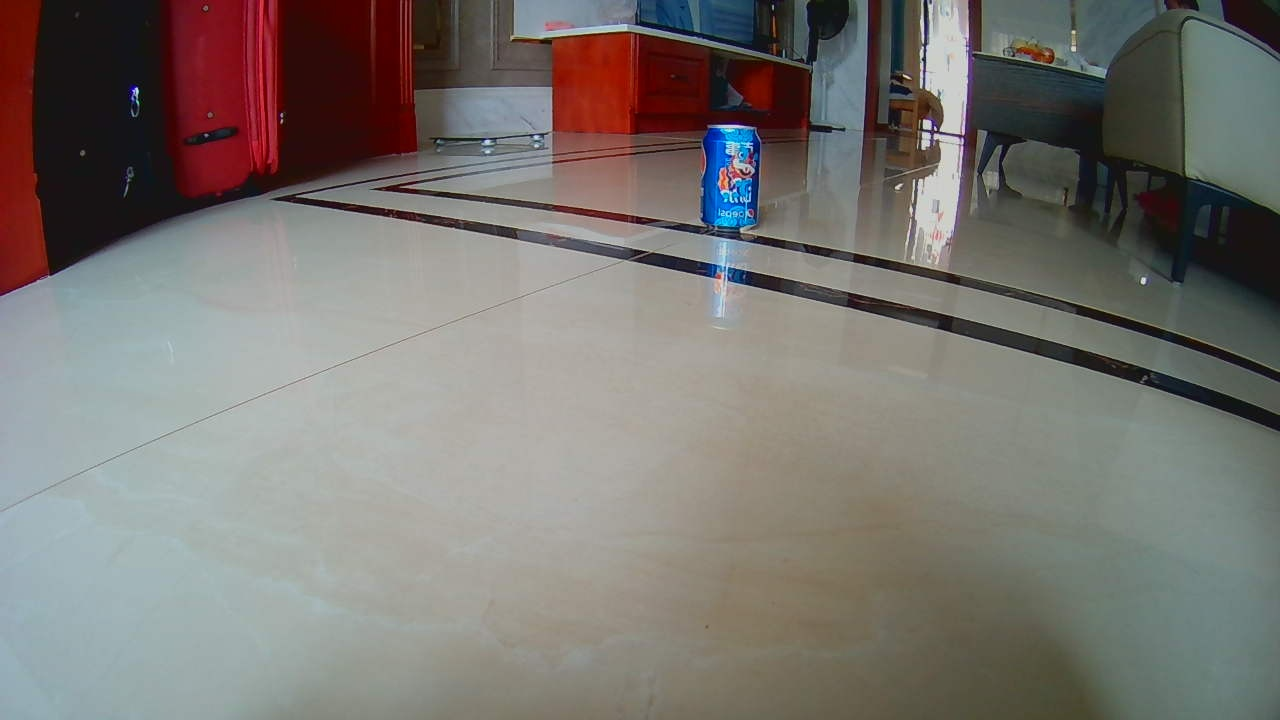pessi: (703, 122, 760, 229)
